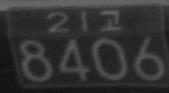0: (90, 36, 129, 80)
1: (73, 10, 95, 31)
2: (45, 10, 71, 33)
4: (58, 38, 89, 81)
6: (133, 36, 165, 81)
8: (19, 38, 52, 82)
고: (100, 9, 121, 31)
